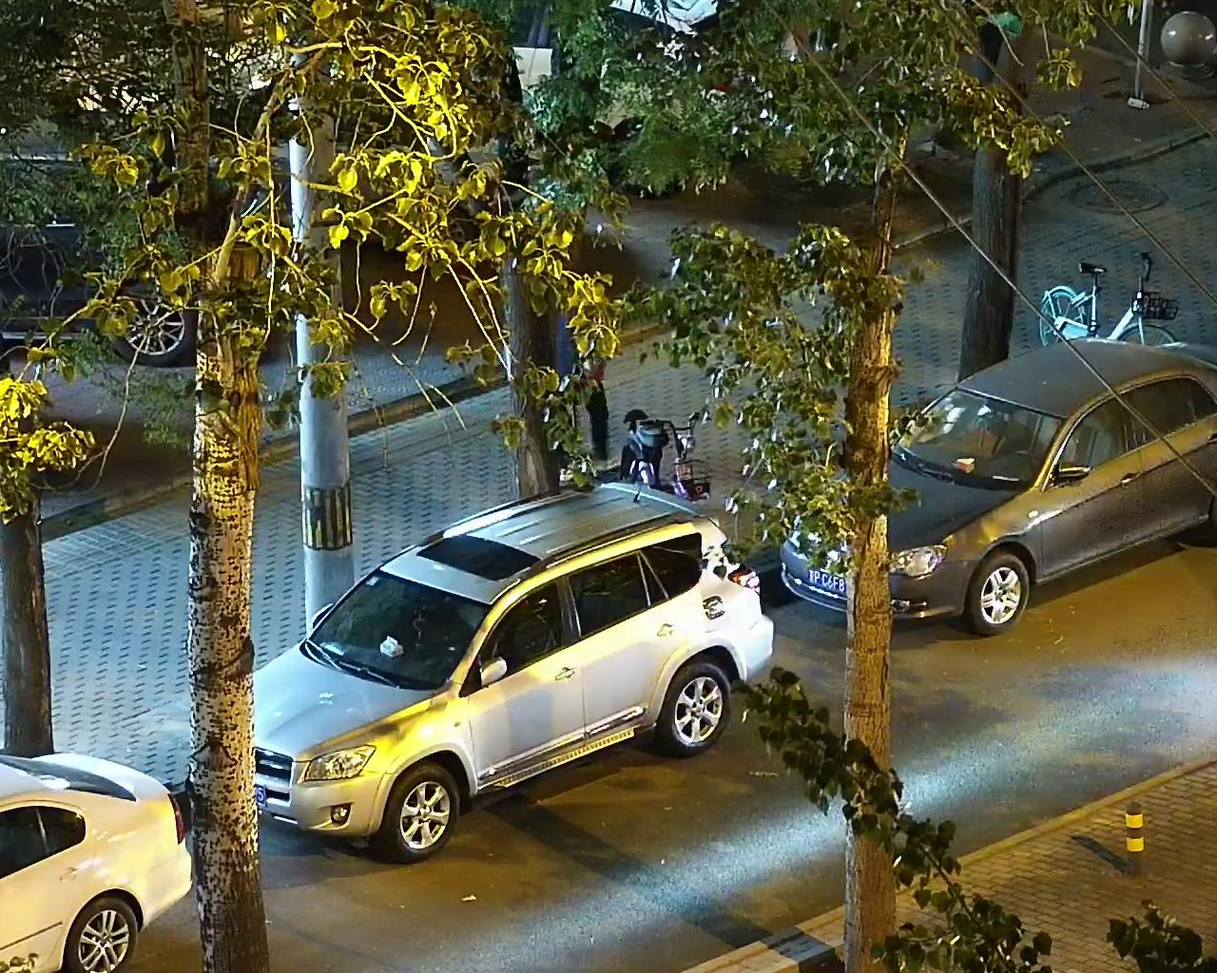person: (546, 265, 638, 492)
